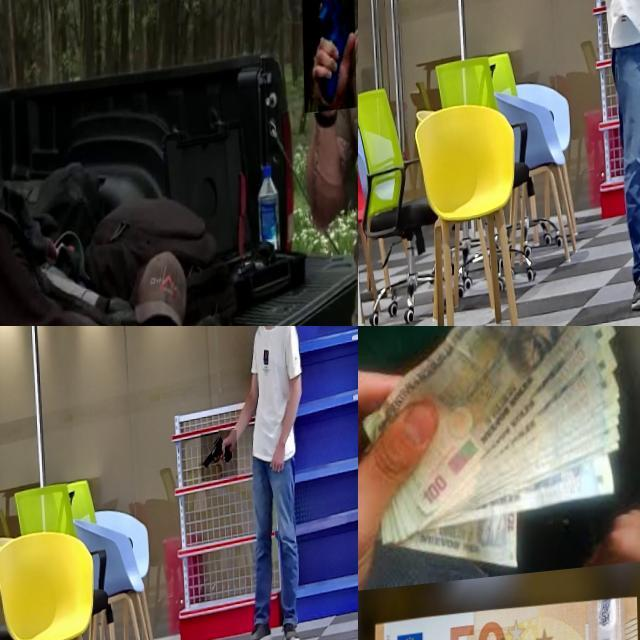gun-knife-thesis - v11 Yolov5 augmented: (300, 0, 355, 121), (200, 438, 236, 489)
